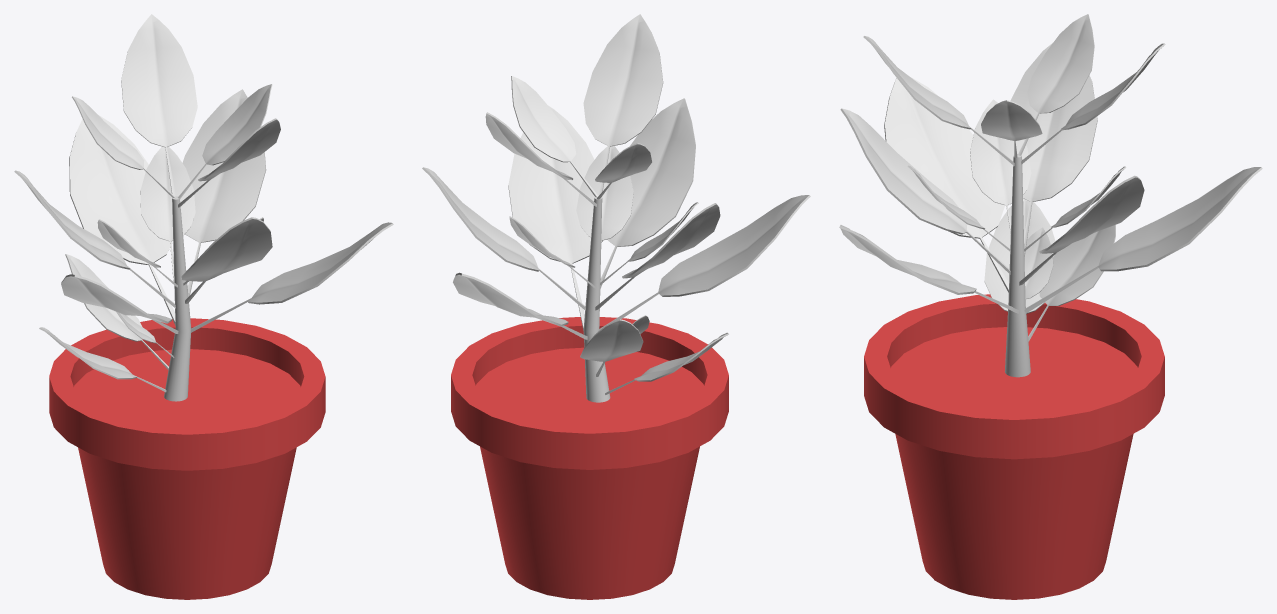
File: Pflanze_001.fbx
The picture shows the model from 3 angles, left to right: view 1: azimuth 30°, elevation 25°; view 2: azimuth 150°, elevation 25°; view 3: azimuth 270°, elevation 25°; orthographic projection. The views are drawn at different scales.
Parts seen in each view (by area): view 1: Pflanze1; view 2: Pflanze1; view 3: Pflanze1.
Boxes of the visible parts, x1=… form: Pflanze1: x1=14, y1=14, x2=393, y2=599; Pflanze1: x1=422, y1=14, x2=810, y2=599; Pflanze1: x1=839, y1=14, x2=1262, y2=599.
Size of the model in its own units: 1.5 by 2.39 by 1.71.
